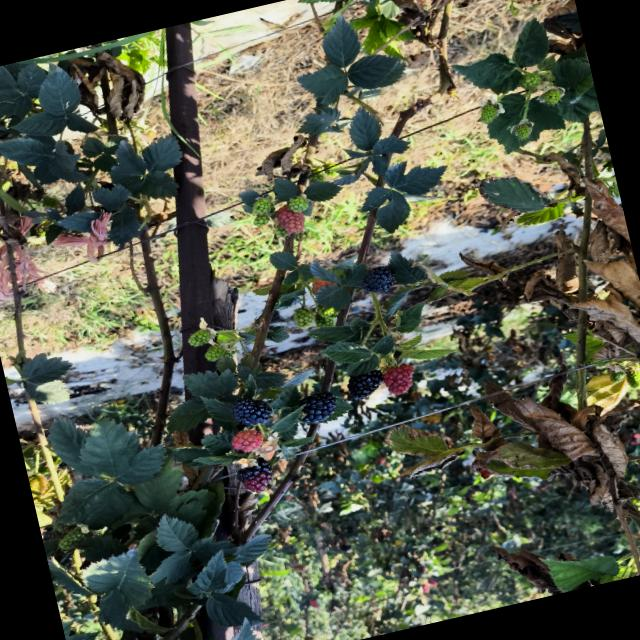maduro: (300, 392, 337, 423), (231, 398, 272, 425), (347, 369, 382, 399), (362, 266, 394, 292)
marron: (238, 458, 272, 493)
naranja: (382, 364, 413, 394), (276, 206, 304, 233), (231, 429, 263, 452), (312, 278, 337, 295)
verde: (480, 97, 504, 123), (510, 118, 533, 140), (294, 306, 314, 328), (205, 344, 229, 361), (542, 87, 564, 105), (519, 72, 541, 90), (252, 197, 273, 215), (188, 329, 210, 346), (288, 195, 308, 212), (315, 314, 335, 327), (273, 225, 289, 237)
